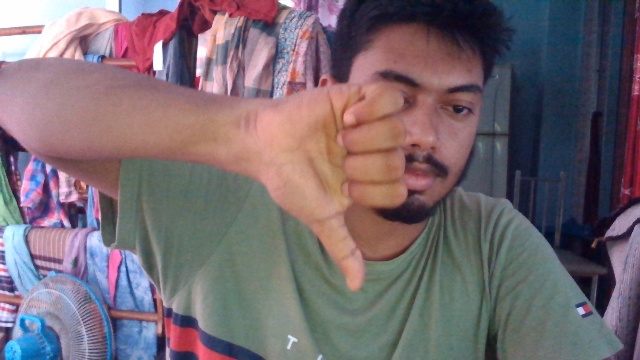no: (255, 76, 415, 295)
